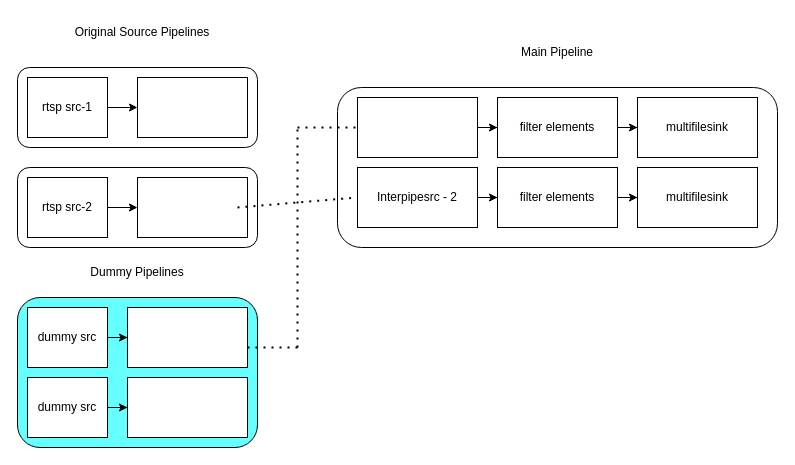
Image size: 795x465. Some labels were removed from this diagram. The shapes that lost their labels are listed below. From the top down, each one's centre as x and y in pixels, then its label:
At (x=192, y=107): "Interpipesink - 1".
At (x=417, y=127): "Interpipesrc - 1".
At (x=192, y=207): "Interpipesink - 2".
At (x=187, y=337): "dummy sink-1".
At (x=187, y=407): "dummy sink-2".
